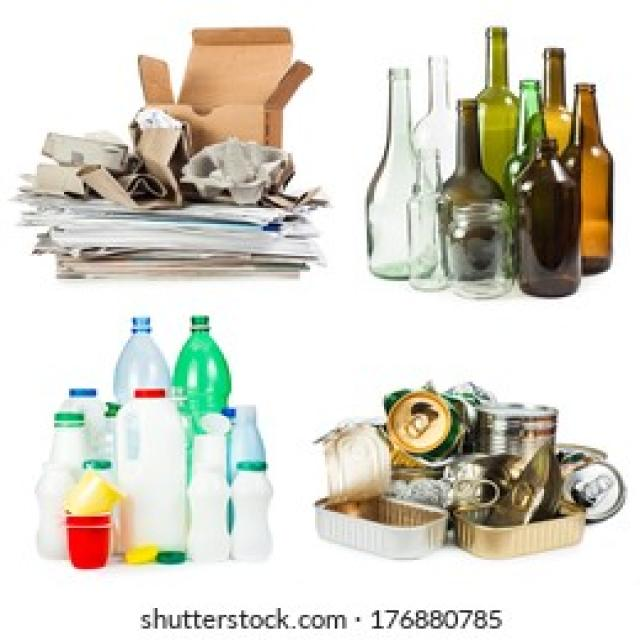cardboard: (17, 82, 310, 288)
glass: (389, 39, 615, 299)
metal: (337, 377, 571, 565)
plastic: (27, 343, 251, 553)
